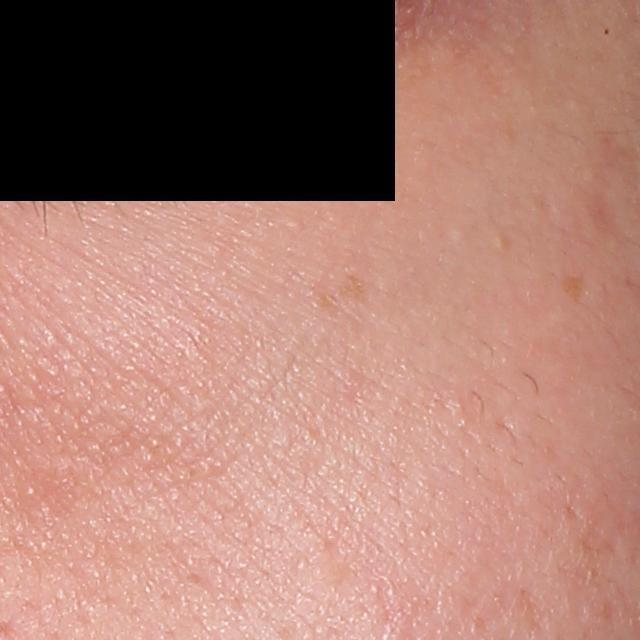melasma: (307, 275, 365, 313), (558, 273, 584, 305)
other: (492, 231, 511, 253)
